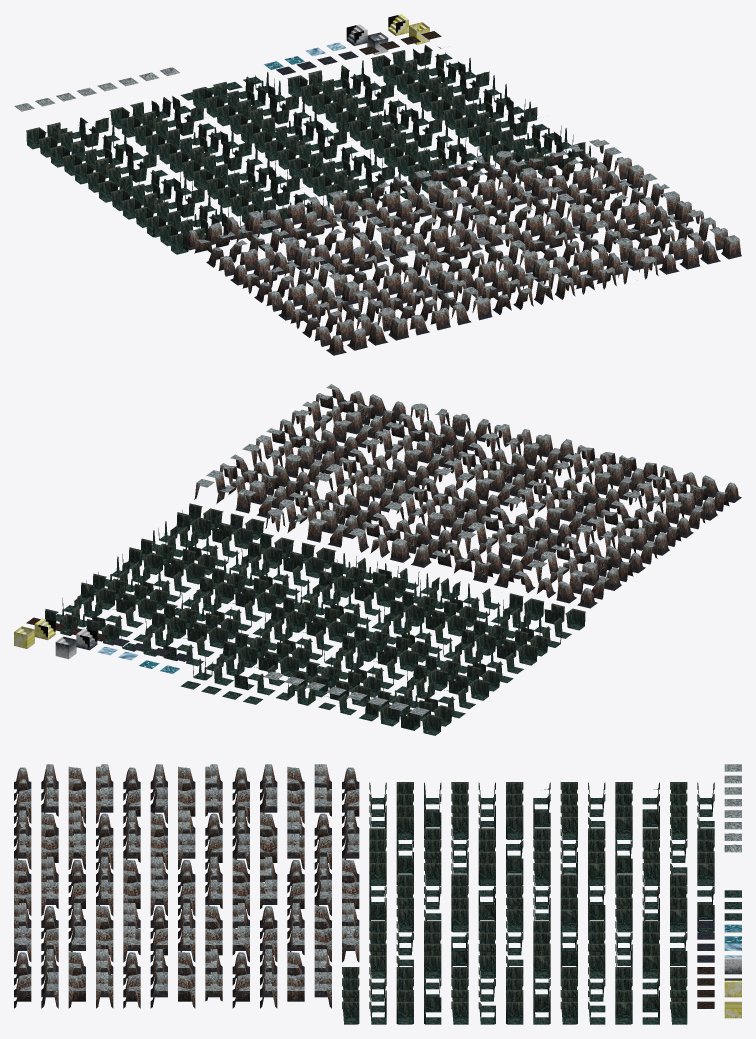
File: alltiles.glb
3 renders of one model, top to bottom at view 1: azimuth 30°, elevation 25°; view 2: azimuth 150°, elevation 25°; view 3: azimuth 270°, elevation 25°, orthographic. The views are drawn at different scales.
Visible parts, largest first — view 1: Plane.001; view 2: Plane.001; view 3: Plane.001.
Part boxes in pixels (x1=…): Plane.001: x1=14, y1=14, x2=741, y2=355; Plane.001: x1=14, y1=384, x2=741, y2=735; Plane.001: x1=14, y1=764, x2=741, y2=1024.
Size of the model in its own units: 982 by 74 by 1332.
Materials: 12 (12 with a texture image).
